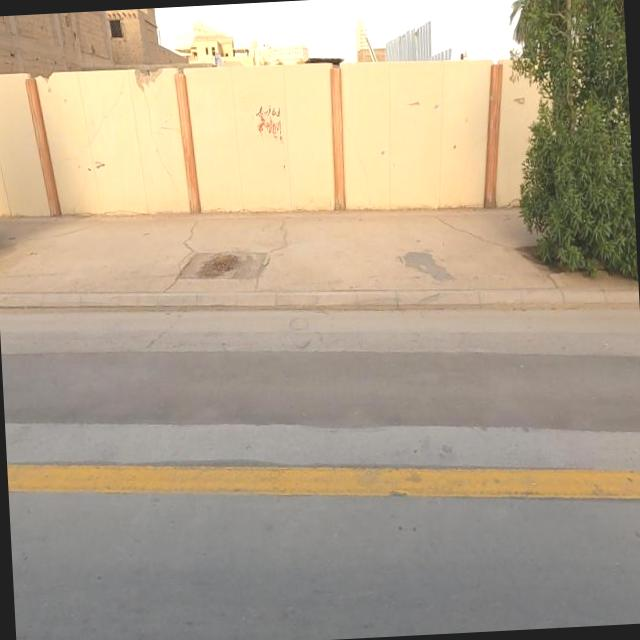debris: (218, 74, 313, 174)
